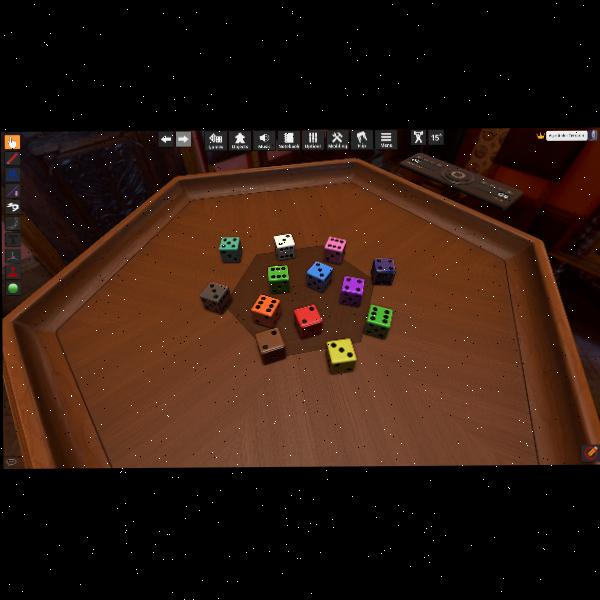d6: (255, 326, 286, 364), (200, 281, 231, 316), (327, 339, 357, 374), (251, 293, 281, 327), (363, 305, 392, 339), (294, 304, 321, 338), (305, 261, 331, 293), (340, 276, 365, 307), (371, 257, 395, 285), (267, 264, 289, 294), (323, 236, 345, 265), (219, 236, 242, 263), (273, 233, 295, 261)
